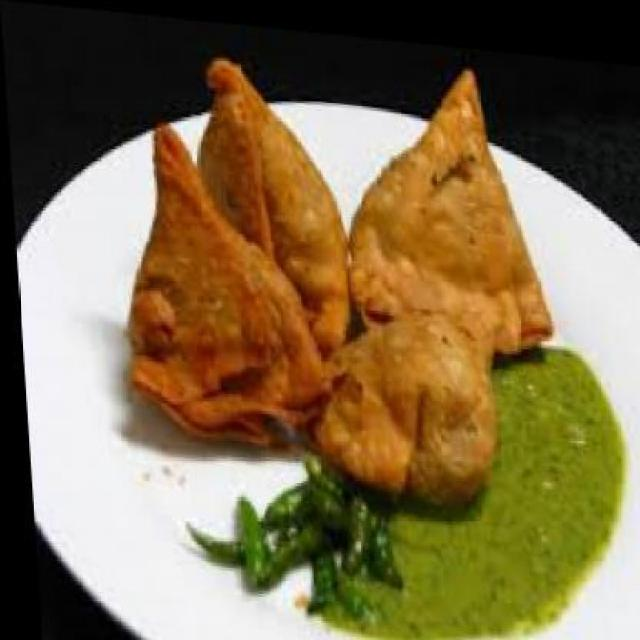samosa: (109, 116, 345, 450), (334, 49, 552, 348), (188, 51, 350, 355), (302, 286, 510, 503)
